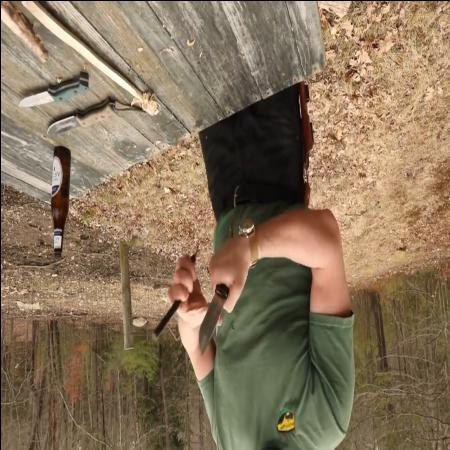long weapon: (194, 239, 244, 362)
